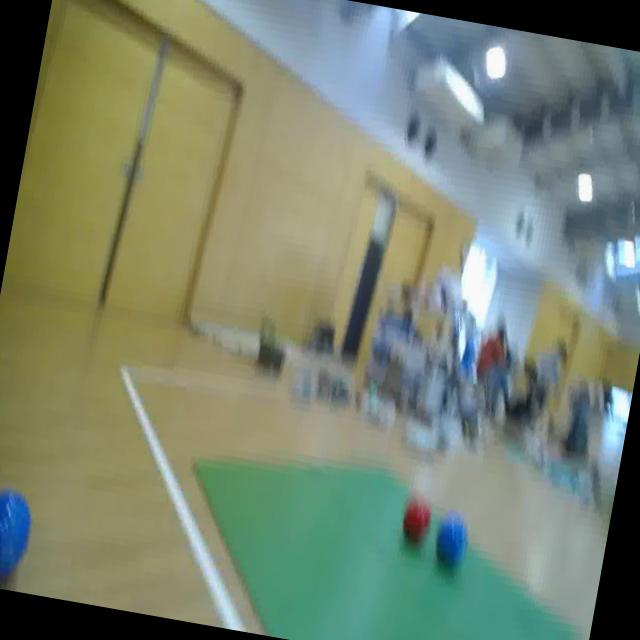blue_ball: (0, 478, 38, 590), (427, 503, 473, 574)
red_ball: (394, 492, 436, 548)
